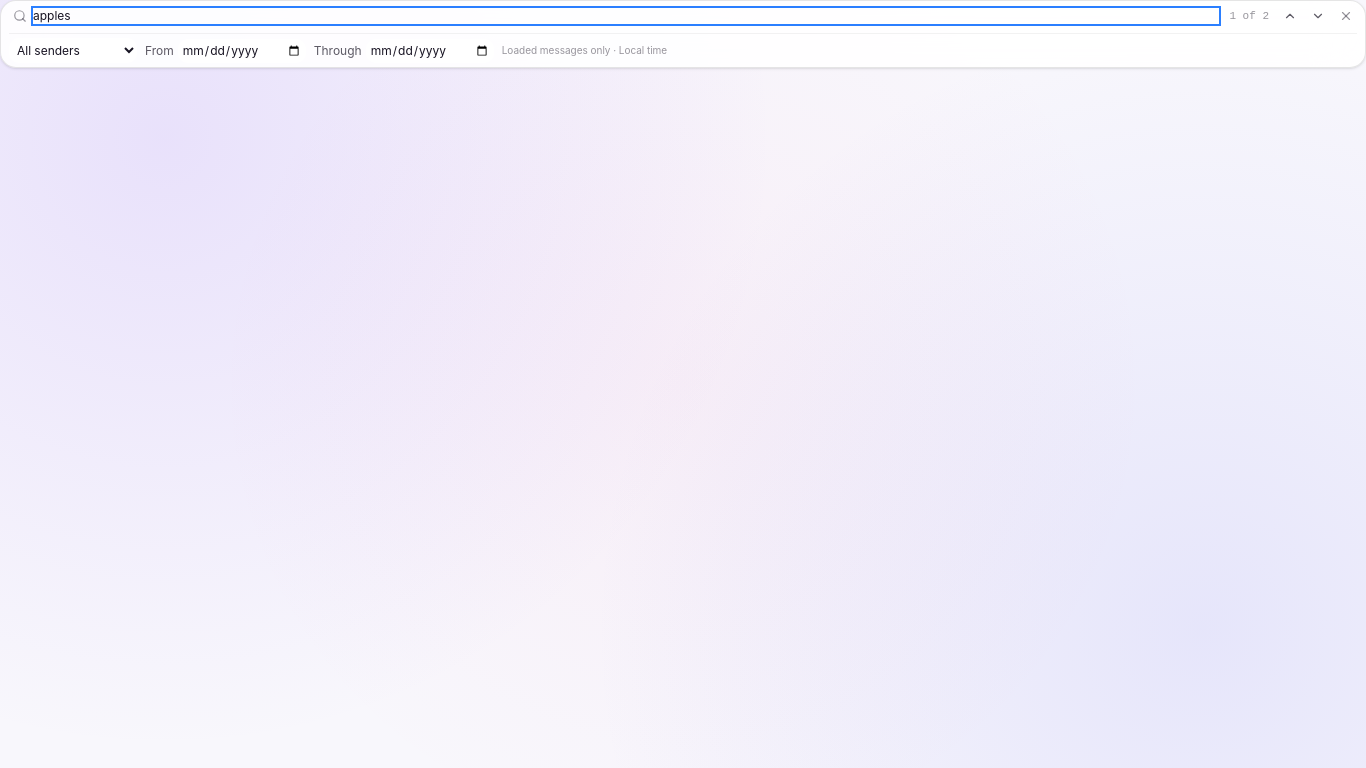
it: MessageSearchBar › explains reversed ranges accessibly and restores matches when corrected
The width and height of the screenshot is (1366, 768).
Step 1. Type "2026-10-23" into the date field with test id "search-from-date" → [242, 50], box [178,38,306,62]
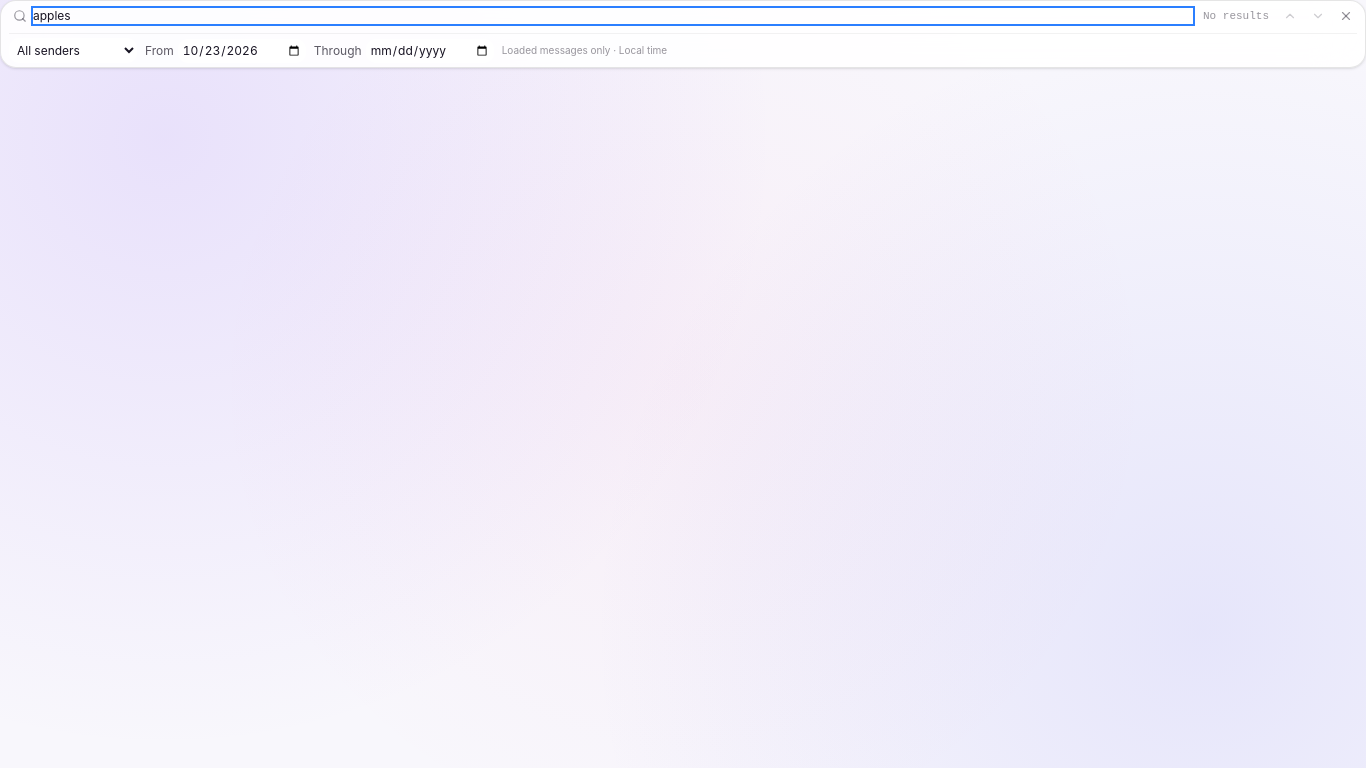
Step 2. Type "2026-10-22" into the date field with test id "search-through-date" → [430, 50], box [366,38,494,62]
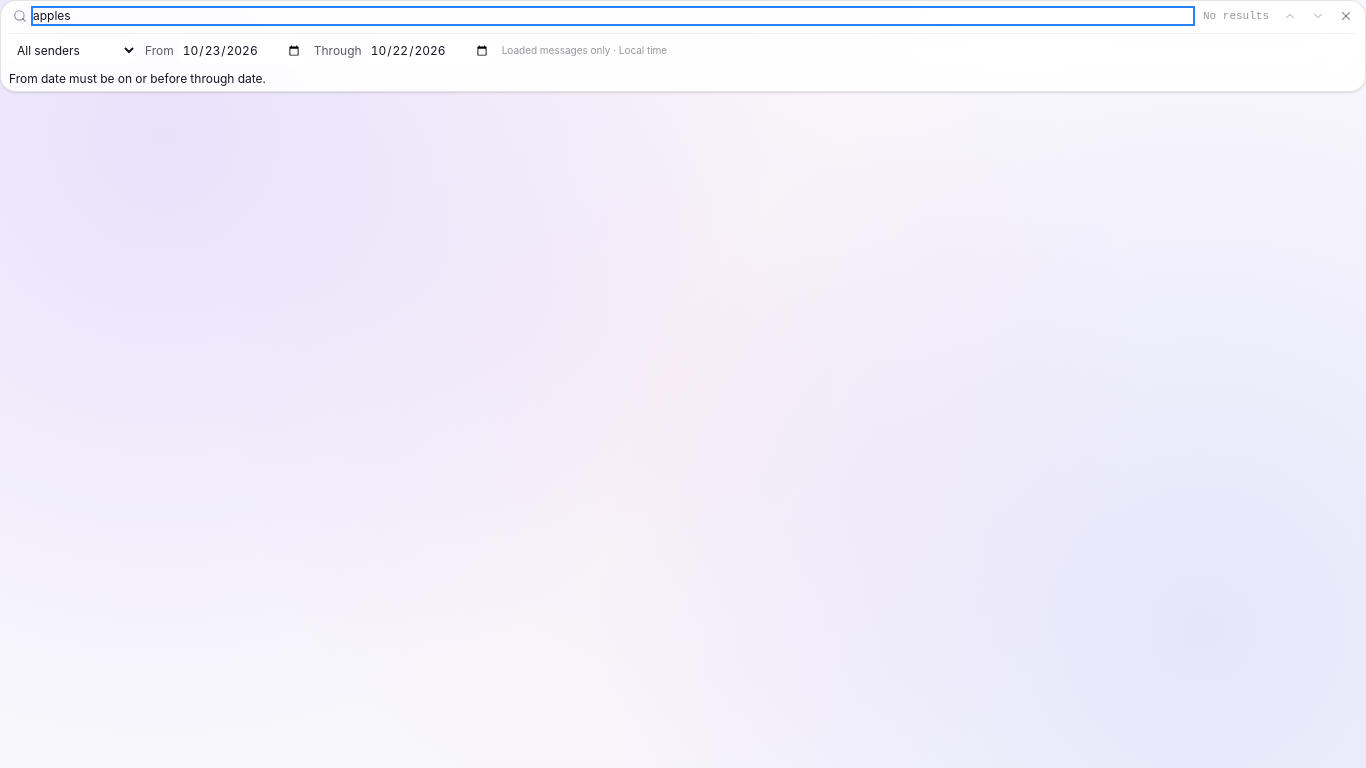
Now the message with test id "search-count" reads "No results", box [1203,10,1269,22]
Now the message "From date must be on or before through date." is shown, box [9,71,266,86]
Step 3. Press Escape in the date field with test id "search-through-date", box [366,38,494,62]
Step 4. Type "2026-10-21" into the date field with test id "search-from-date" → [242, 50], box [178,38,306,62]
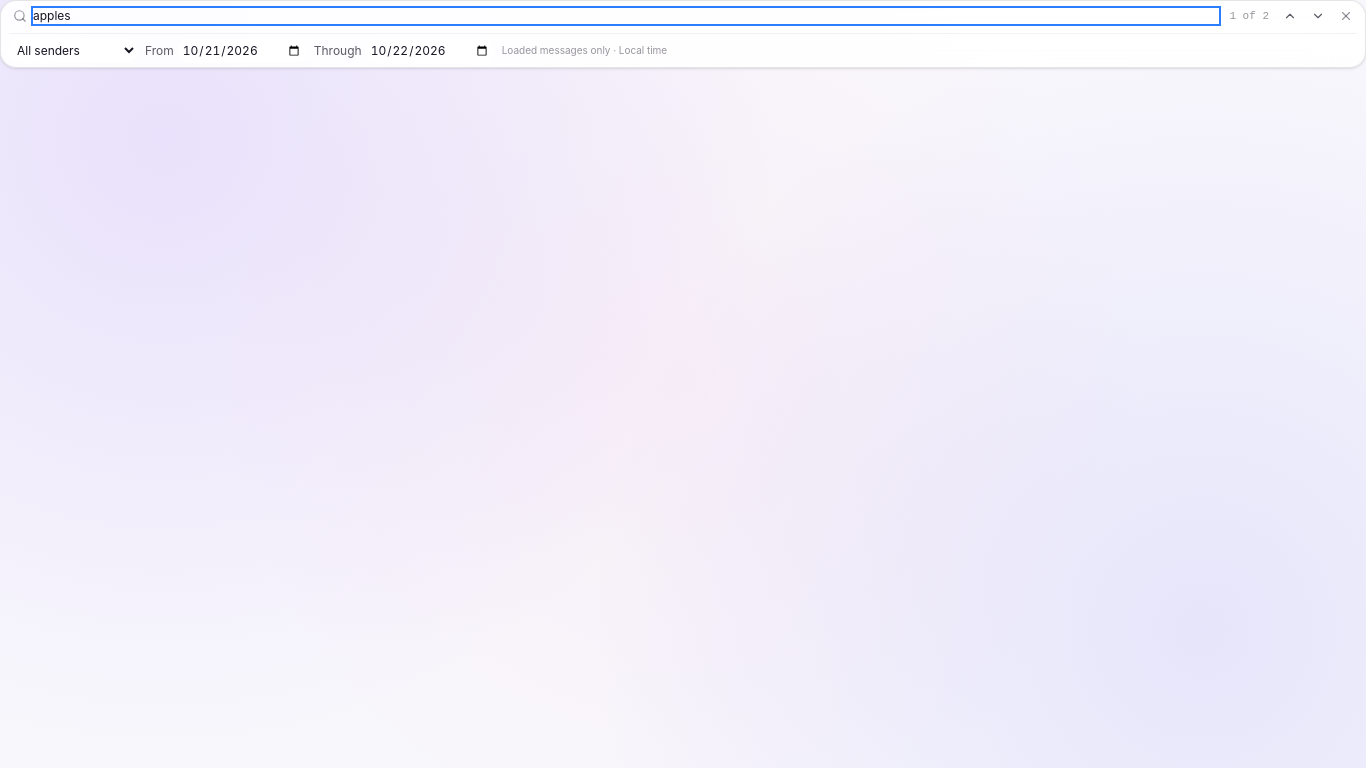
Now the message with test id "search-count" reads "1 of 2", box [1229,10,1269,22]
